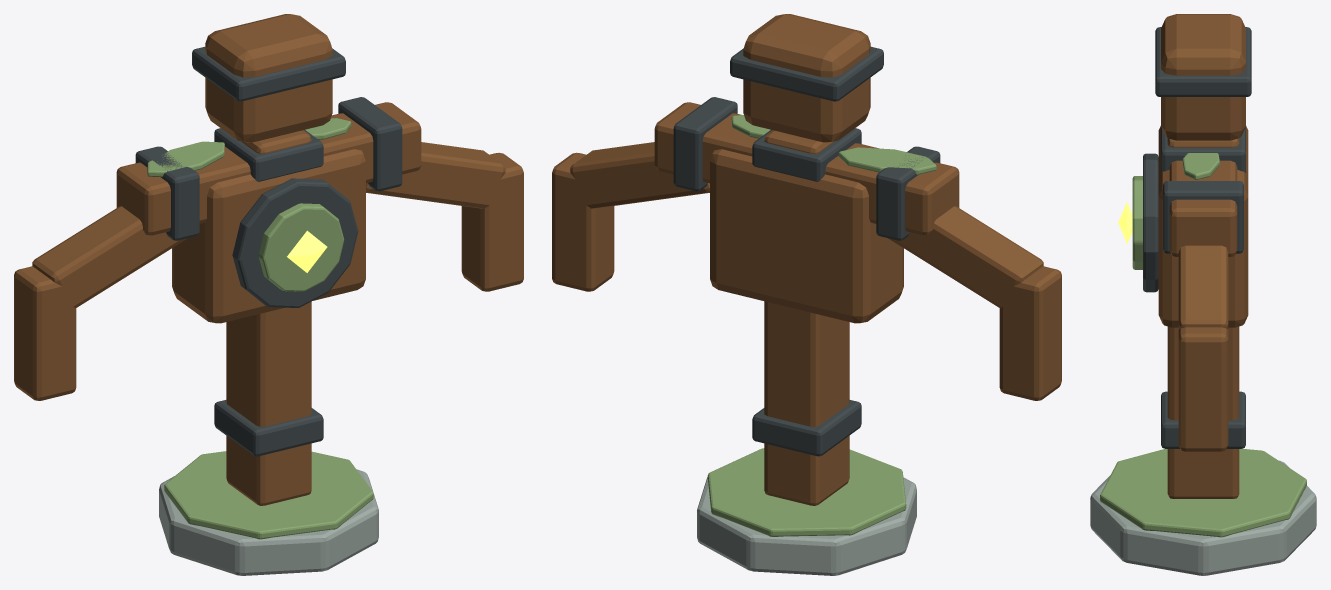
Rendered from SM_EmbermereFenwatchPracticeDummy_01.fbx.
3 renders of one model, left to right at view 1: azimuth 30°, elevation 25°; view 2: azimuth 150°, elevation 25°; view 3: azimuth 270°, elevation 25°, orthographic.
Visible parts, largest first — view 1: SM_EmbermereFenwatchPracticeDummy_01; view 2: SM_EmbermereFenwatchPracticeDummy_01; view 3: SM_EmbermereFenwatchPracticeDummy_01.
Boxes of the visible parts, box(x1,y1,x2,y2) form: SM_EmbermereFenwatchPracticeDummy_01: box(14, 14, 523, 575); SM_EmbermereFenwatchPracticeDummy_01: box(552, 14, 1061, 575); SM_EmbermereFenwatchPracticeDummy_01: box(1090, 14, 1316, 575).
Size of what is drawn, in the model's own units: 252 by 101 by 245.
